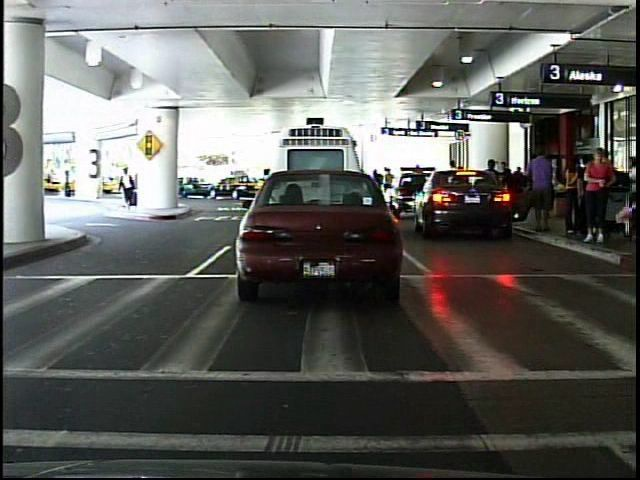person: (581, 143, 618, 249), (113, 159, 145, 211), (62, 163, 77, 202)
